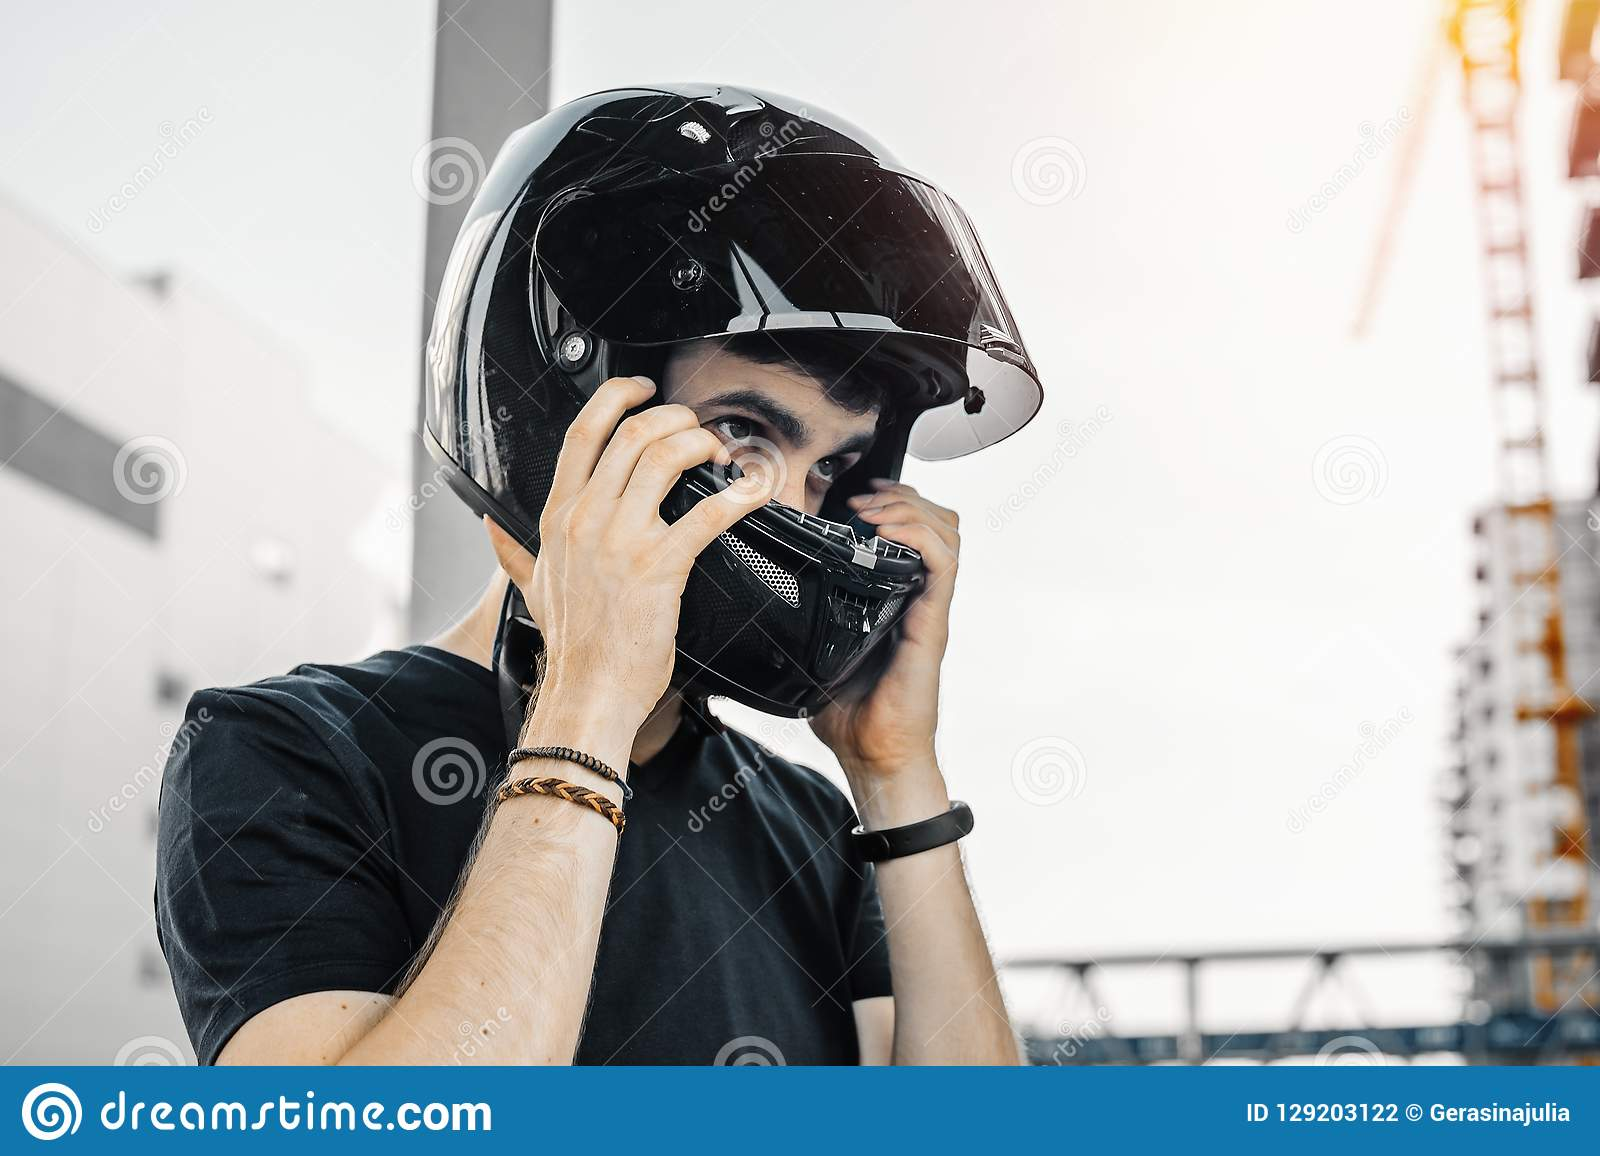helmet: (441, 107, 968, 697)
